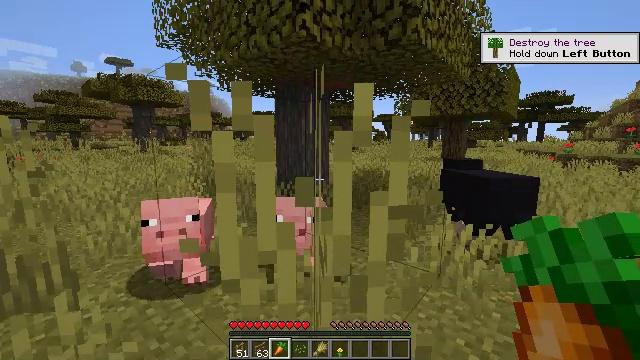pig: (142, 199, 209, 282), (270, 196, 328, 256)
sheep: (436, 158, 540, 244)
